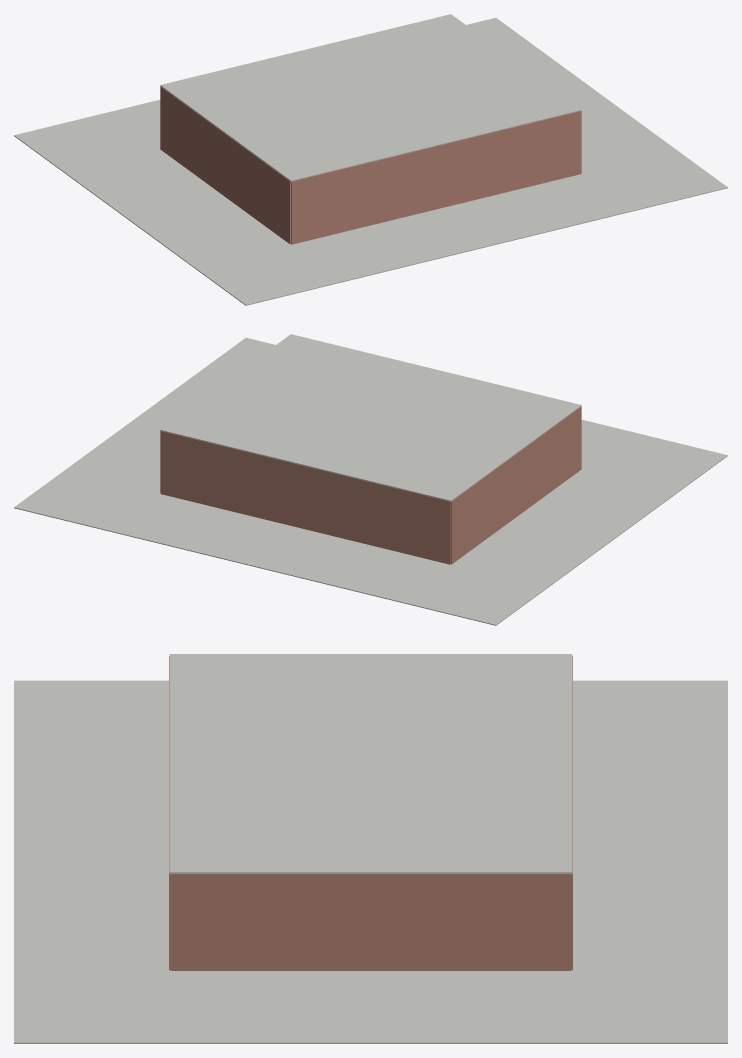
File: lavanderia_superlab.glb
The picture shows the model from 3 angles, top to bottom: view 1: azimuth 30°, elevation 25°; view 2: azimuth 150°, elevation 25°; view 3: azimuth 270°, elevation 25°; orthographic projection. The views are drawn at different scales.
Visible parts, largest first — view 1: Lavanderia_Superlab_lot, Lavanderia_Superlab_l_roof, Lavanderia_Superlab_wall_s, Lavanderia_Superlab_wall_w; view 2: Lavanderia_Superlab_lot, Lavanderia_Superlab_l_roof, Lavanderia_Superlab_wall_n, Lavanderia_Superlab_wall_w; view 3: Lavanderia_Superlab_lot, Lavanderia_Superlab_l_roof, Lavanderia_Superlab_wall_e.
Boxes of the visible parts, left/top/right/bottom form: Lavanderia_Superlab_lot: left=14, top=17, right=727, bottom=305; Lavanderia_Superlab_l_roof: left=160, top=14, right=581, bottom=182; Lavanderia_Superlab_wall_s: left=291, top=111, right=581, bottom=244; Lavanderia_Superlab_wall_w: left=160, top=86, right=291, bottom=244; Lavanderia_Superlab_lot: left=14, top=337, right=727, bottom=625; Lavanderia_Superlab_l_roof: left=160, top=334, right=581, bottom=502; Lavanderia_Superlab_wall_n: left=160, top=431, right=450, bottom=564; Lavanderia_Superlab_wall_w: left=450, top=406, right=581, bottom=564; Lavanderia_Superlab_lot: left=14, top=680, right=727, bottom=1043; Lavanderia_Superlab_l_roof: left=169, top=654, right=572, bottom=874; Lavanderia_Superlab_wall_e: left=171, top=873, right=570, bottom=970.
Size of what is drawn, in the model's own units: 60 by 15.69 by 50.
